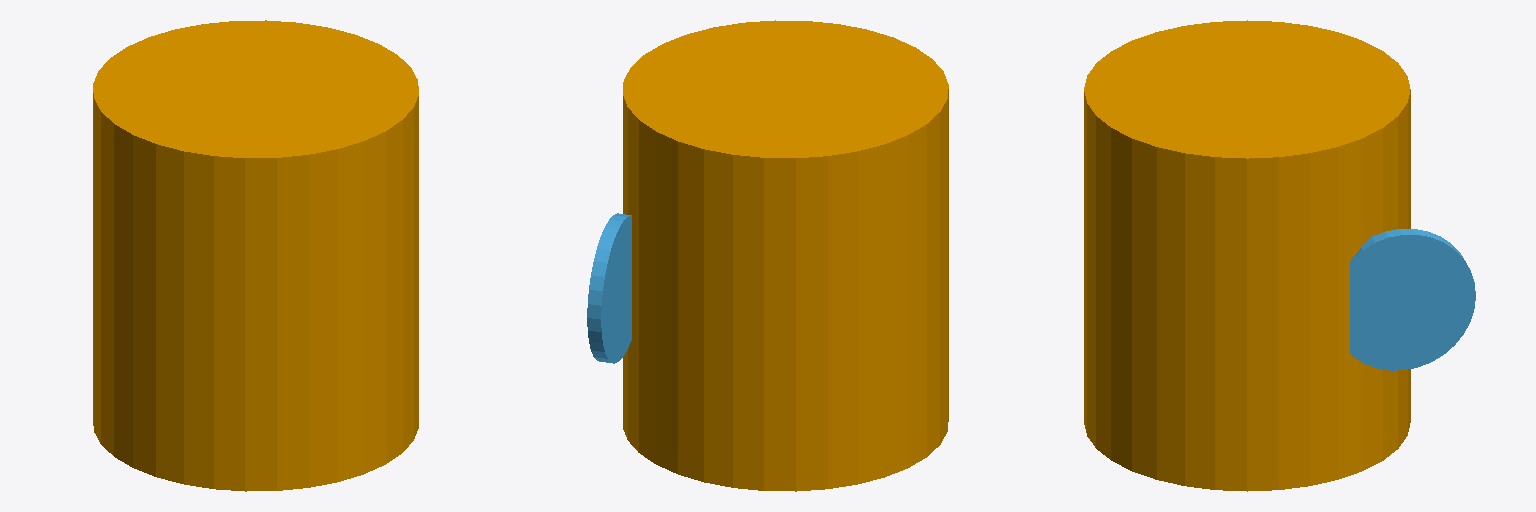
URDF robot description (pepe):
<?xml version="1.0"?><robot name="pepe">
	<link name="0">
		<visual>
			<geometry>
				<cylinder length="2.052335271366942" radius="0.9127046226389154"/>
			</geometry>
		</visual>
		<collision>
			<geometry>
				<cylinder length="2.052335271366942" radius="0.9127046226389154"/>
			</geometry>
		</collision>
		<inertial>
			<mass value="5.371043651051132"/>
			<inertia ixx="0.03" iyy="0.03" izz="0.03" ixy="0" ixz="0" iyx="0"/>
		</inertial>
	</link>
	<link name="11">
		<visual>
			<geometry>
				<cylinder length="0.08184099038896608" radius="0.41790111664954355"/>
			</geometry>
		</visual>
		<collision>
			<geometry>
				<cylinder length="0.08184099038896608" radius="0.41790111664954355"/>
			</geometry>
		</collision>
		<inertial>
			<mass value="0.04490221987647599"/>
			<inertia ixx="0.03" iyy="0.03" izz="0.03" ixy="0" ixz="0" iyx="0"/>
		</inertial>
	</link>
	<joint name="11_to_0" type="revolute">
		<parent link="0"/>
		<child link="11"/>
		<axis xyz="0 1 0"/>
		<limit effort="1" upper="-3.1415" lower="3.1415" velocity="1"/>
		<origin rpy="3.9652756893345087 4.712368970461085 5.685208336242165" xyz="0.5955111462562679 0.8612339159085349 0.008620761568280622"/>
	</joint>
</robot>

--- Render facts (derived) ---
Views: 3 orthographic renders of the robot side by side, from view 1: azimuth 30°, elevation 25°; view 2: azimuth 150°, elevation 25°; view 3: azimuth 270°, elevation 25°.
Robot: pepe — 2 links, 1 joints (1 revolute); root link 0; default pose: all joints at 0.
Links seen in each view (by area): view 1: 0; view 2: 0, 11; view 3: 0, 11.
Boxes of the visible links, <box> form: 0: <box>93,20,418,491</box>; 0: <box>623,20,948,491</box>; 11: <box>587,213,631,363</box>; 0: <box>1084,20,1410,491</box>; 11: <box>1350,229,1475,370</box>.
Bounding box of the posed robot: 1.83 × 2.19 × 2.05 m (x, y, z).
Geometry: primitives only (box / cylinder / sphere), no mesh files.
